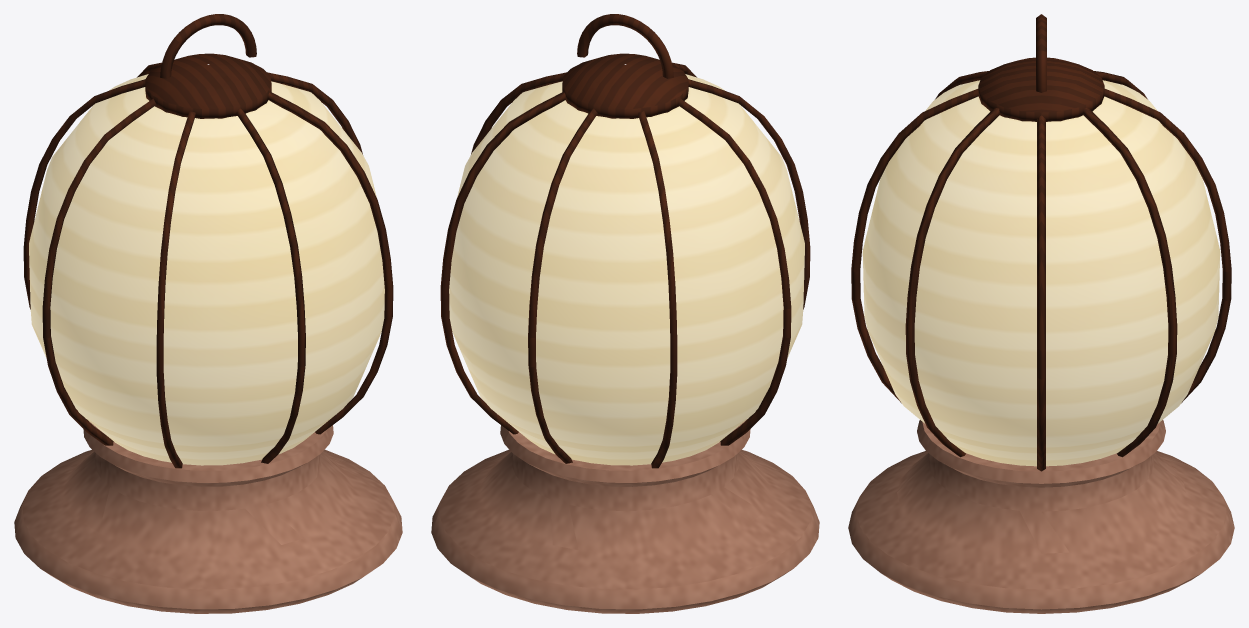
3 renders of one model, left to right at view 1: azimuth 30°, elevation 25°; view 2: azimuth 150°, elevation 25°; view 3: azimuth 270°, elevation 25°, orthographic.
Visible parts, largest first — view 1: Mesh_LightStone, Mesh_LampBase, Mesh_LampRibs; view 2: Mesh_LightStone, Mesh_LampBase, Mesh_LampRibs; view 3: Mesh_LightStone, Mesh_LampBase, Mesh_LampRibs.
Part boxes in pixels (<box>): Mesh_LightStone: <box>29,74,384,465</box>; Mesh_LampBase: <box>14,419,402,613</box>; Mesh_LampRibs: <box>23,14,393,468</box>; Mesh_LightStone: <box>449,74,804,465</box>; Mesh_LampBase: <box>431,419,819,613</box>; Mesh_LampRibs: <box>440,14,810,468</box>; Mesh_LightStone: <box>862,80,1220,466</box>; Mesh_LampBase: <box>848,420,1234,613</box>; Mesh_LampRibs: <box>851,14,1231,471</box>.
Size of the model in its own units: 0.428 by 0.6335 by 0.428.
Materials: 3 (3 with a texture image).
